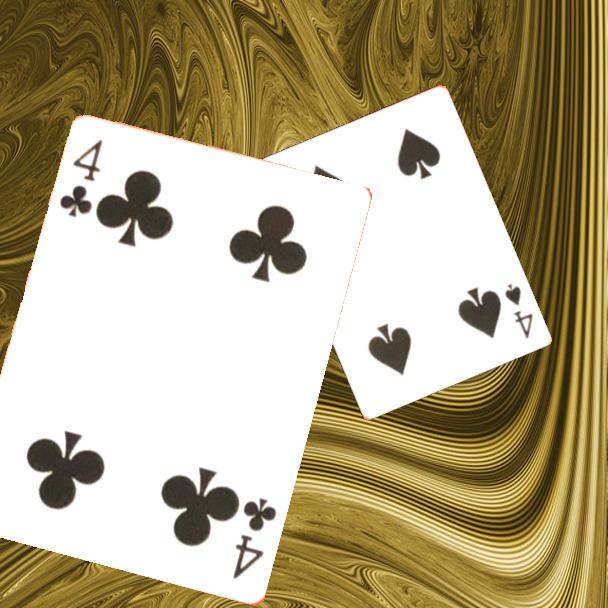c04: (229, 494, 280, 583), (56, 136, 106, 221)
s04: (501, 280, 536, 341)
